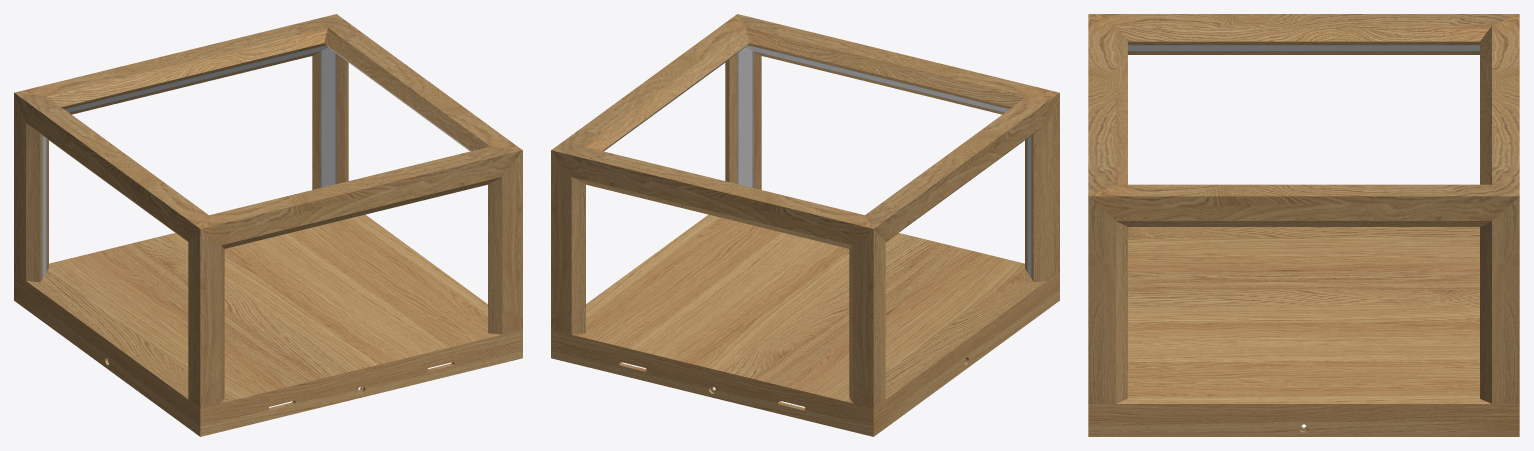
3 renders of one model, left to right at view 1: azimuth 30°, elevation 25°; view 2: azimuth 150°, elevation 25°; view 3: azimuth 270°, elevation 25°, orthographic. The views are drawn at different scales.
Visible parts, largest first — view 1: Cube_Cube.002, PROTO.001_Cube.003, PROTO.007_Cube.031, PROTO.006_Cube.026, Cube.021_Cube.061, Cube.002_Cube.005, Cube.022_Cube.062, Cube.001_Cube.004; view 2: Cube_Cube.002, PROTO.001_Cube.003, PROTO.007_Cube.031, PROTO.006_Cube.026, Cube.021_Cube.061, Cube.002_Cube.005, Cube.022_Cube.062, Cube.001_Cube.004; view 3: Cube_Cube.002, PROTO.006_Cube.026, PROTO.007_Cube.031, PROTO.001_Cube.003, Cube.014_Cube.054, Cube.013_Cube.053.
Part boxes in pixels (x1=…): Cube_Cube.002: x1=14, y1=214, x2=522, y2=436; PROTO.001_Cube.003: x1=15, y1=14, x2=522, y2=248; PROTO.007_Cube.031: x1=14, y1=51, x2=522, y2=408; PROTO.006_Cube.026: x1=14, y1=14, x2=522, y2=241; Cube.021_Cube.061: x1=42, y1=47, x2=335, y2=277; Cube.002_Cube.005: x1=65, y1=45, x2=327, y2=112; Cube.022_Cube.062: x1=42, y1=51, x2=336, y2=278; Cube.001_Cube.004: x1=64, y1=45, x2=325, y2=112; Cube_Cube.002: x1=551, y1=214, x2=1059, y2=436; PROTO.001_Cube.003: x1=551, y1=14, x2=1058, y2=248; PROTO.007_Cube.031: x1=551, y1=51, x2=1059, y2=408; PROTO.006_Cube.026: x1=551, y1=14, x2=1059, y2=241; Cube.021_Cube.061: x1=738, y1=47, x2=1031, y2=277; Cube.002_Cube.005: x1=746, y1=45, x2=1008, y2=112; Cube.022_Cube.062: x1=737, y1=51, x2=1031, y2=278; Cube.001_Cube.004: x1=748, y1=45, x2=1009, y2=112; Cube_Cube.002: x1=1088, y1=227, x2=1519, y2=436; PROTO.006_Cube.026: x1=1088, y1=14, x2=1519, y2=226; PROTO.007_Cube.031: x1=1088, y1=196, x2=1519, y2=403; PROTO.001_Cube.003: x1=1088, y1=14, x2=1519, y2=195; Cube.014_Cube.054: x1=1128, y1=45, x2=1479, y2=50; Cube.013_Cube.053: x1=1128, y1=45, x2=1479, y2=51.
Size of the model in its own units: 35.45 by 21.85 by 35.45.
